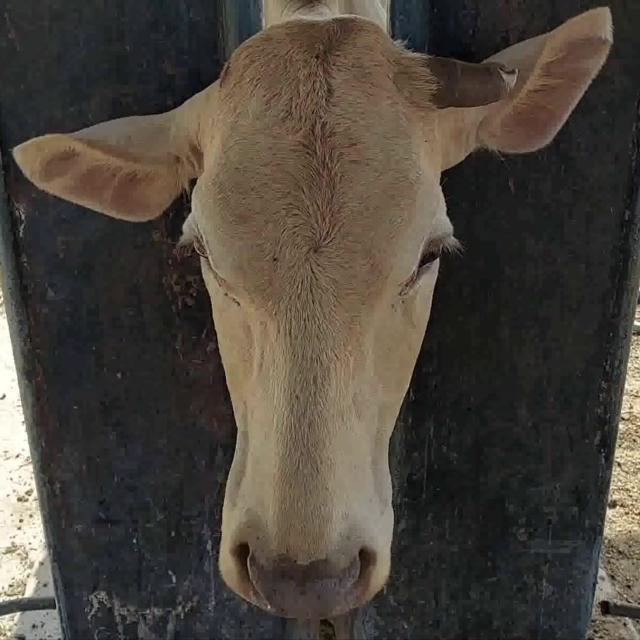cowFace: (191, 17, 454, 619)
